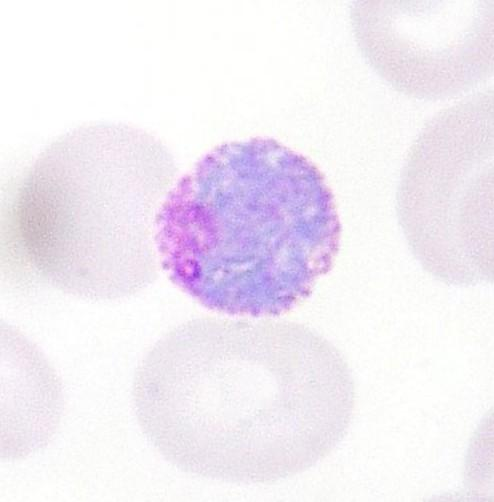Infected: (153, 134, 341, 314)
Uninfected: (134, 315, 355, 480), (18, 121, 179, 298), (392, 94, 494, 280), (346, 0, 494, 100)
